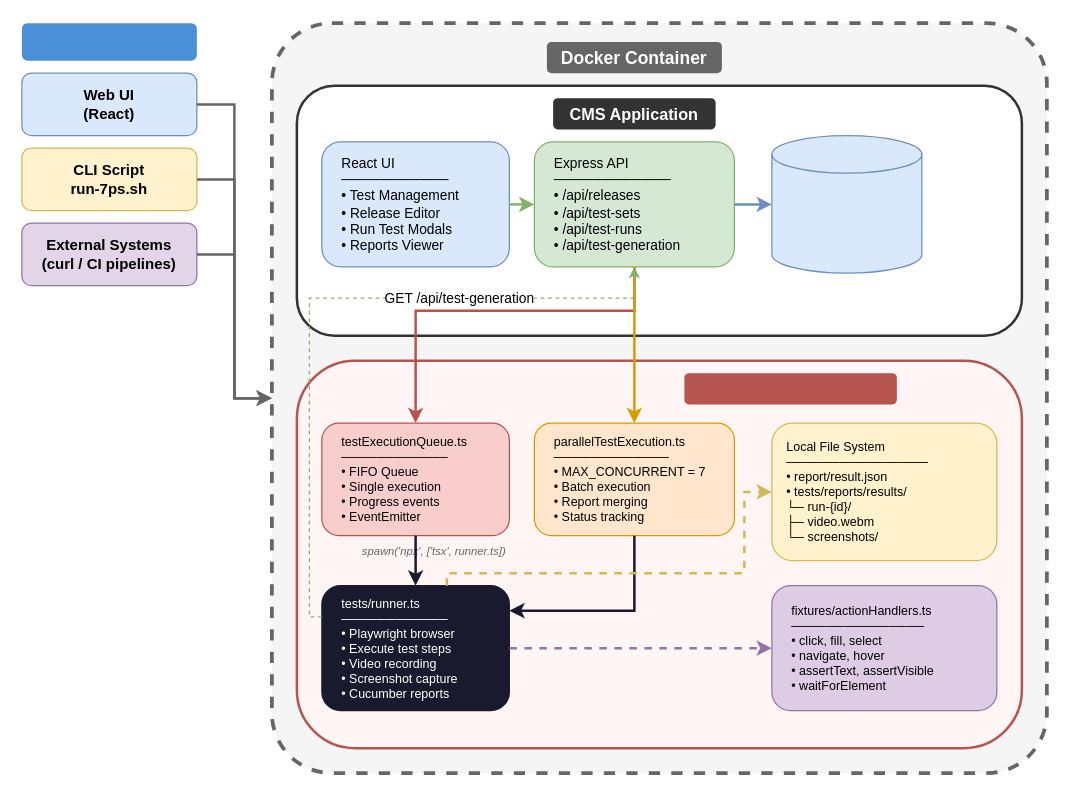
This 1070x796 diagram has some shape labels left out. The shapes that lost their labels are listed below. From the top down, each one's centre as x and y in pixels, then its label:
At point 108,41: "ENTRY POINTS".
At point 846,203: "SQLite DB ────────── data/uat-ddt.db (Local File)".
At point 790,388: "Test Execution Engine".
